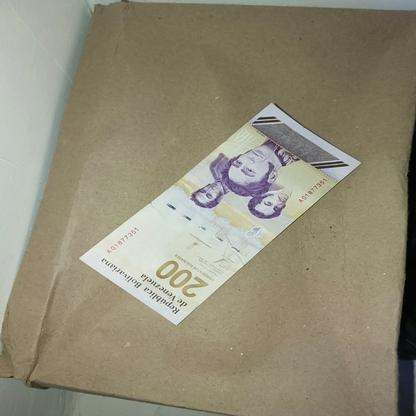two_hundred-front-vef: (77, 100, 362, 326)
